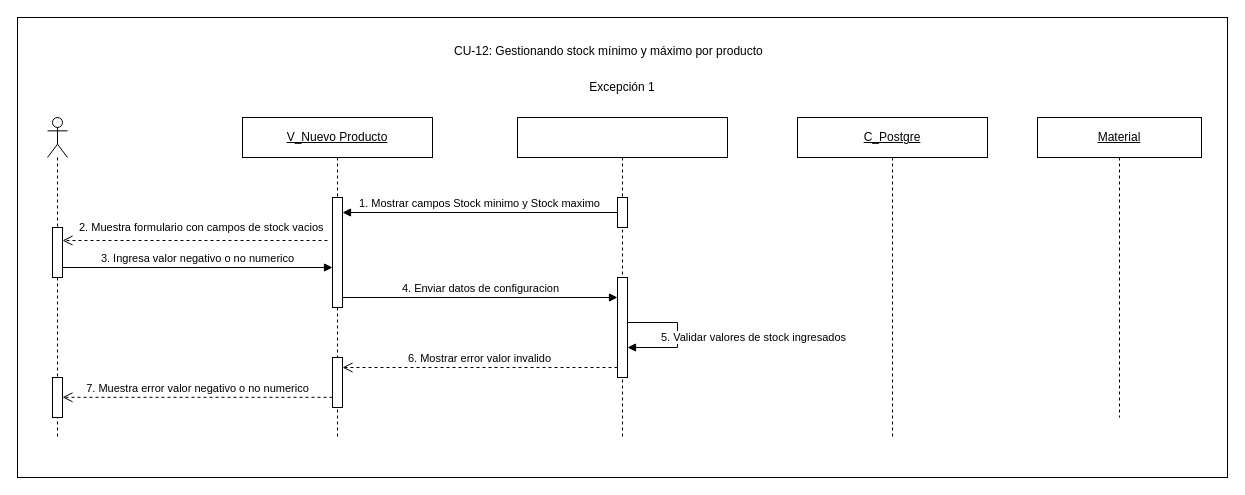
The diagram is 1245 pixels wide and 495 high, and some of its shapes have lost their labels. Each missing label, with the centre of its shape:
"C_materialesController" belongs at (622,277).
"Gerencia" belongs at (57,277).
